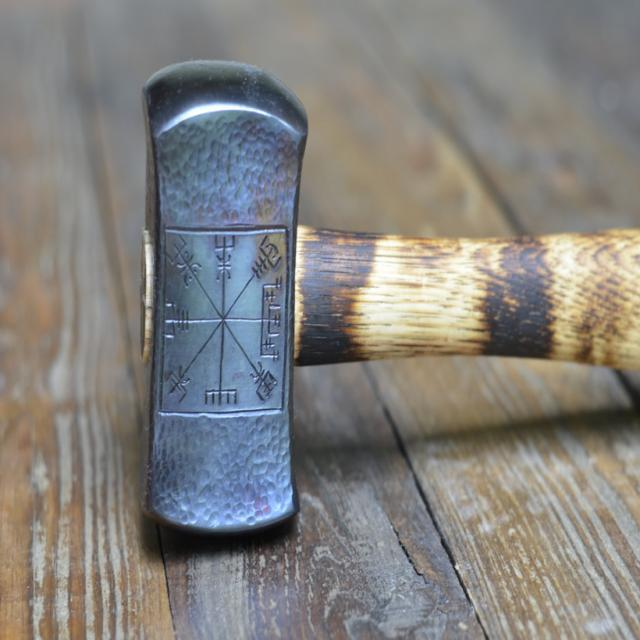hammer: (127, 48, 640, 546)
